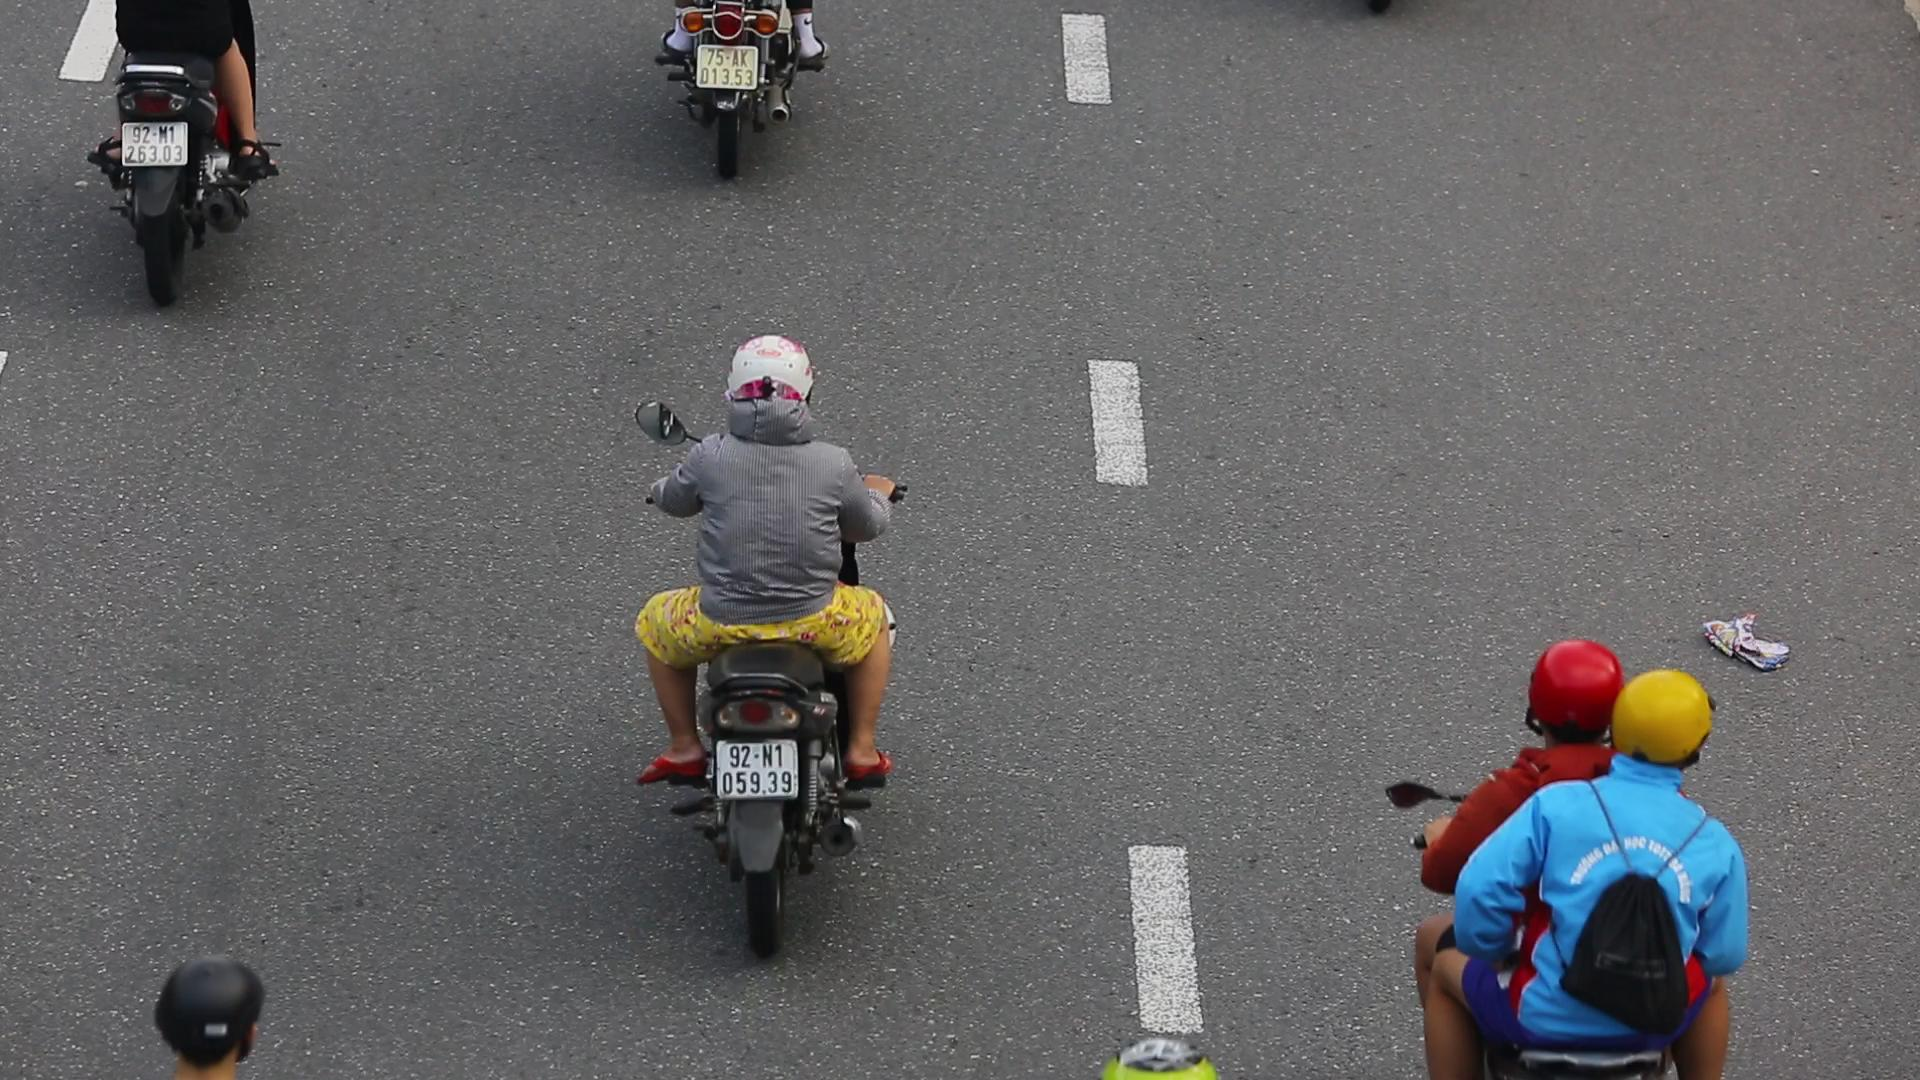motobike: (611, 318, 910, 973)
